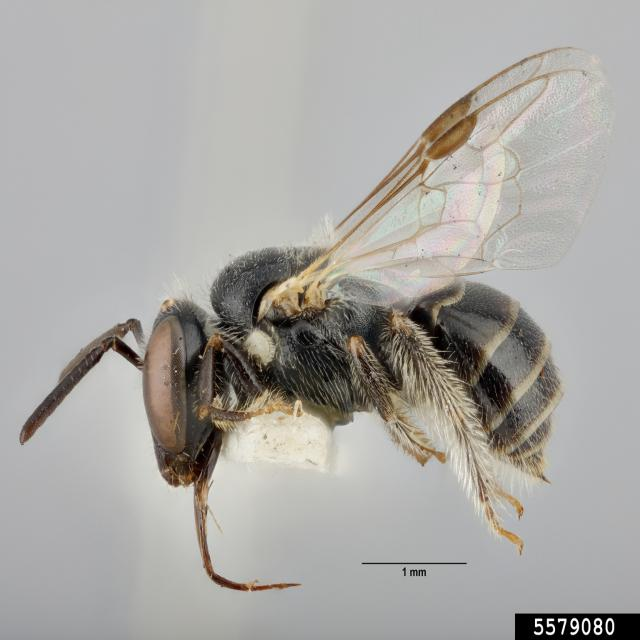Braunsapis: (50, 29, 594, 565)
